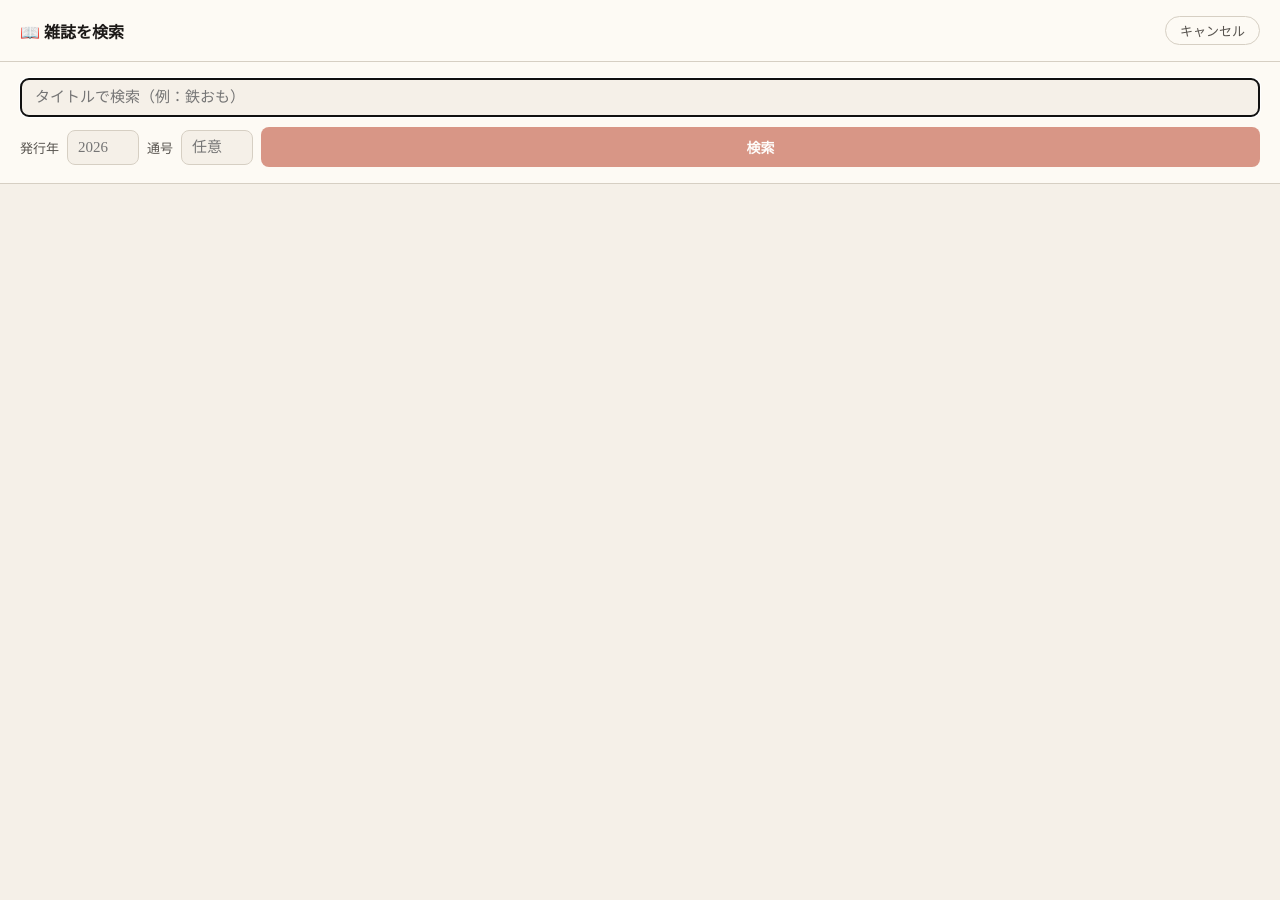
MagazineSearchView › when the search returns issues, it should list them
The image size is (1280, 900).
Type "鉄おも" into the field with placeholder "タイトルで検索（例：鉄おも）" at {"x": 640, "y": 98}, box [20,78,1260,117]
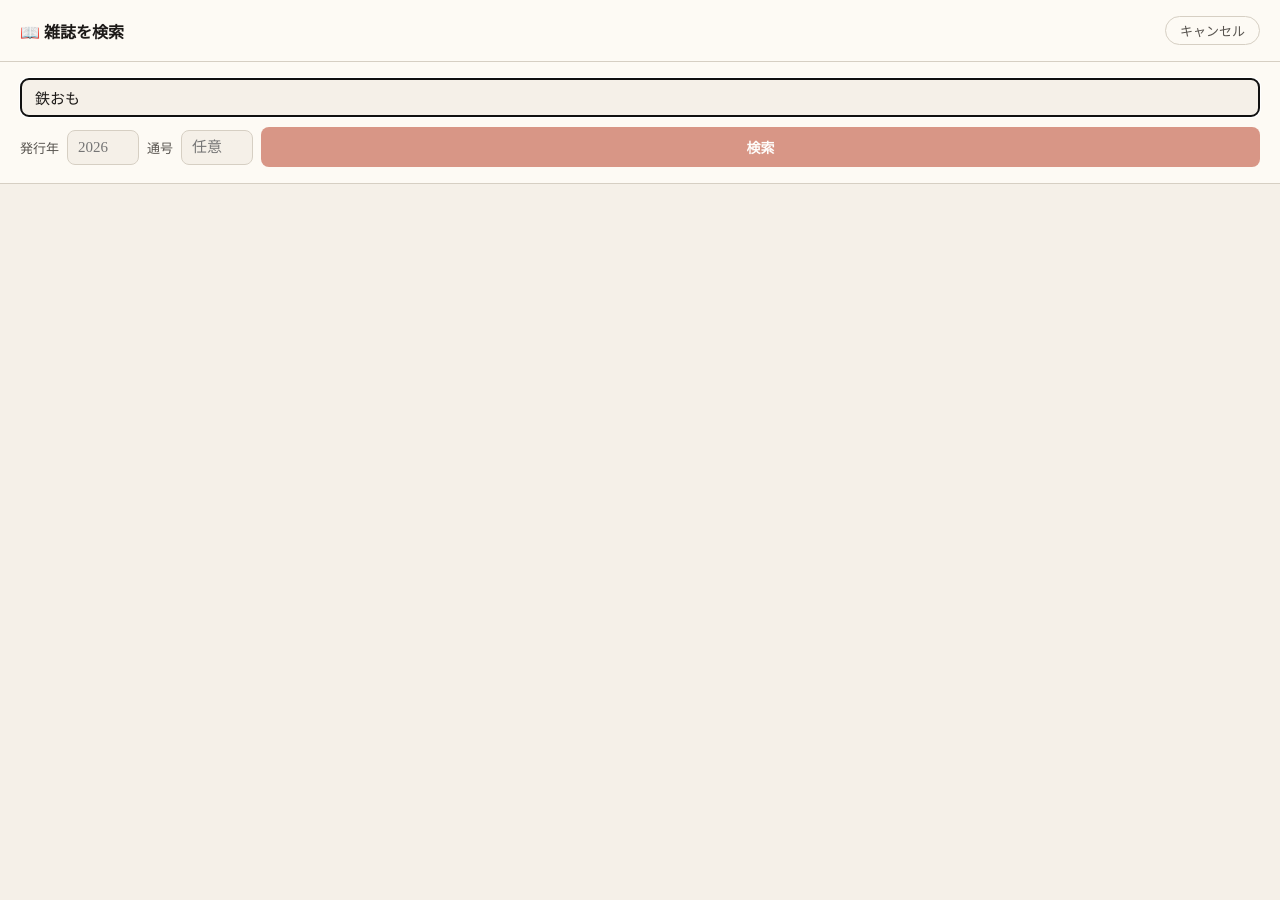
Type "2025" into the number field with placeholder "2026" at {"x": 103, "y": 147}, box [67,130,139,164]
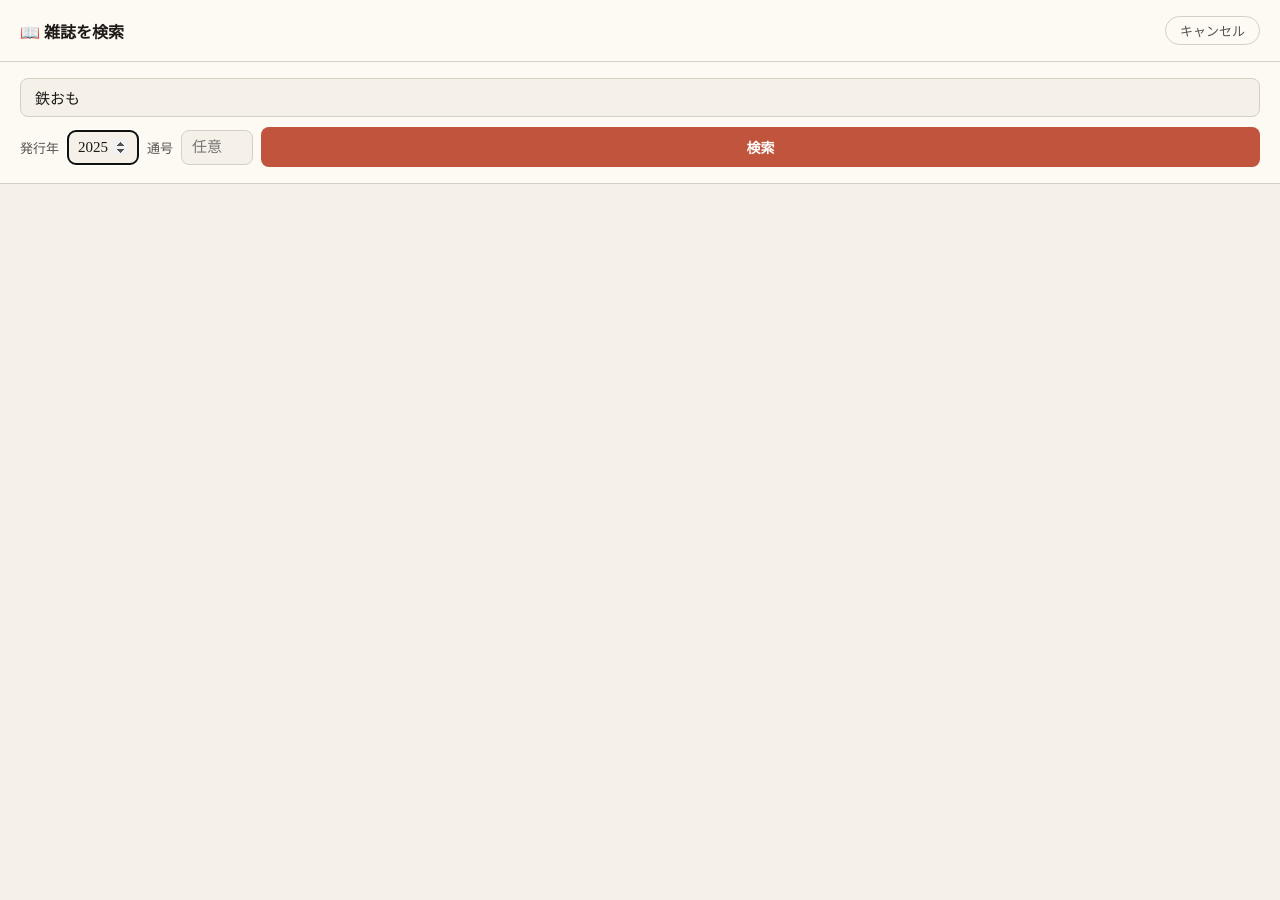
Click the button "検索" at {"x": 760, "y": 147}, box [261,127,1260,167]
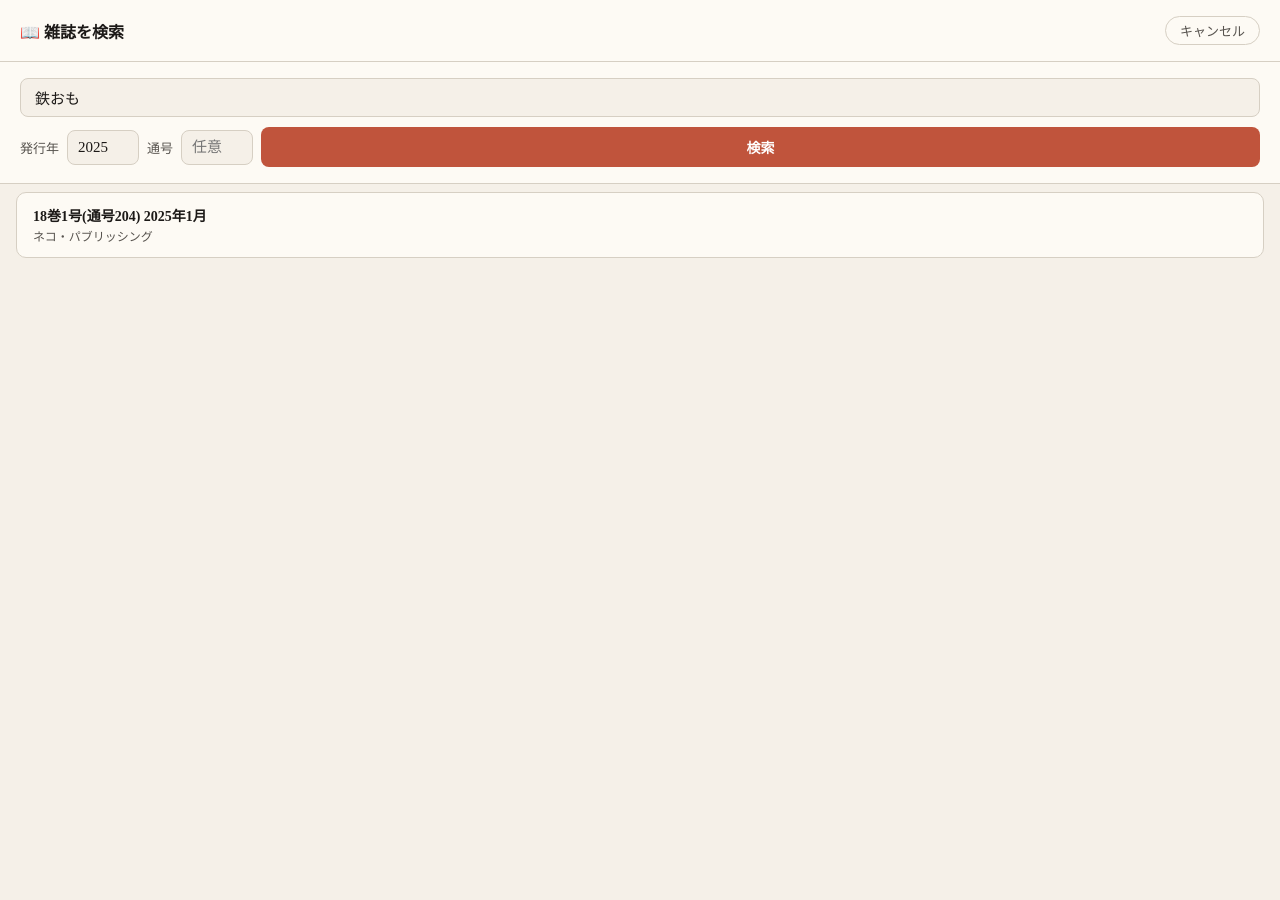
Expected: the text "18巻1号(通号204) 2025年1月" is shown, [33,209,207,224]
Expected: the text "ネコ・パブリッシング" is shown, [33,230,153,244]
